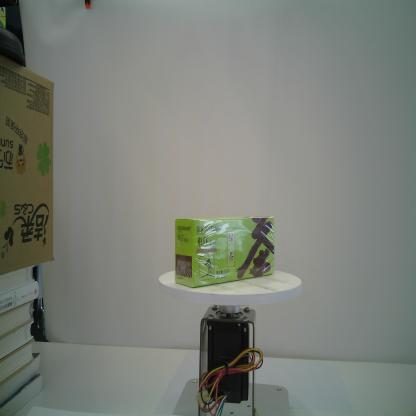Instant Drink: (174, 215, 275, 288)
